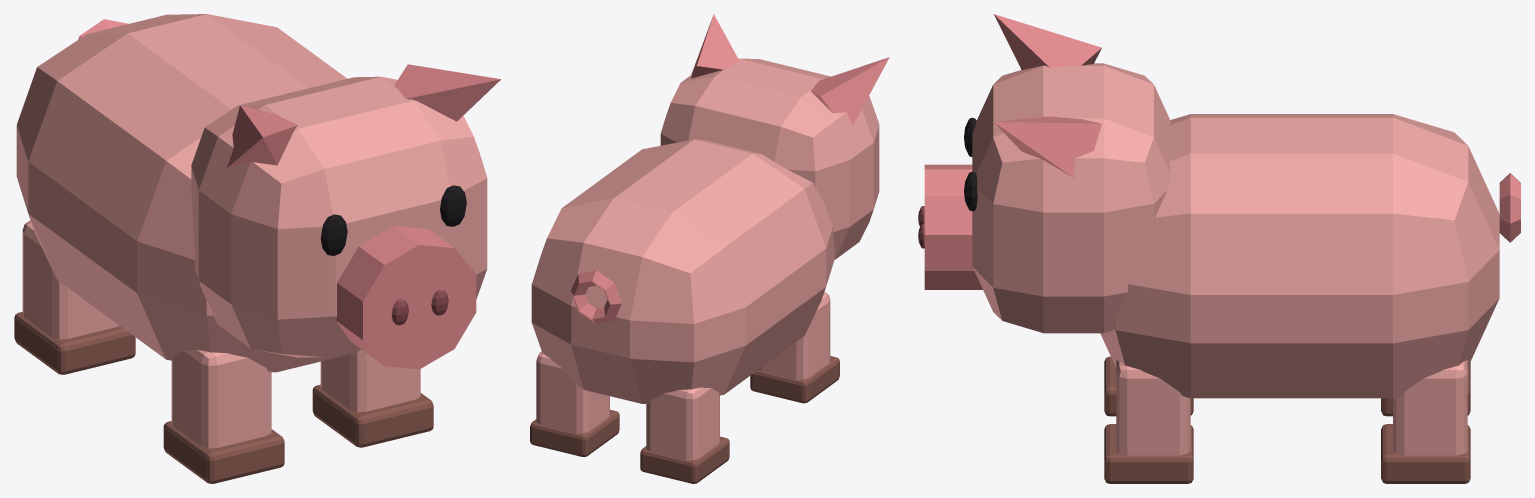
File: pig_pink.glb
3 views of the same model, side by side, from view 1: azimuth 30°, elevation 25°; view 2: azimuth 150°, elevation 25°; view 3: azimuth 270°, elevation 25° (orthographic). The views are drawn at different scales.
Visible parts, largest first — view 1: head_mesh, body_mesh, leg_fr_mesh, leg_br_mesh, leg_fl_mesh, ear_l_mesh, ear_r_mesh; view 2: body_mesh, head_mesh, leg_br_mesh, leg_bl_mesh, leg_fr_mesh, ear_r_mesh, tail_mesh, ear_l_mesh; view 3: body_mesh, head_mesh, leg_bl_mesh, leg_fl_mesh, ear_l_mesh, ear_r_mesh, tail_mesh, leg_fr_mesh.
Boxes of the visible parts, box(x1,y1,x2,y2) form: head_mesh: box(191, 76, 487, 369); body_mesh: box(16, 14, 361, 372); leg_fr_mesh: box(163, 349, 284, 483); leg_br_mesh: box(14, 220, 135, 374); leg_fl_mesh: box(312, 349, 433, 447); ear_l_mesh: box(394, 64, 500, 121); ear_r_mesh: box(227, 105, 297, 167); body_mesh: box(531, 139, 834, 403); head_mesh: box(660, 58, 879, 259); leg_br_mesh: box(640, 387, 729, 483); leg_bl_mesh: box(530, 351, 619, 456); leg_fr_mesh: box(750, 292, 839, 403); ear_r_mesh: box(811, 57, 889, 125); tail_mesh: box(571, 270, 621, 323); ear_l_mesh: box(691, 14, 739, 78); body_mesh: box(1100, 114, 1499, 398); head_mesh: box(918, 63, 1170, 333); leg_bl_mesh: box(1381, 360, 1470, 483); leg_fl_mesh: box(1104, 360, 1193, 483); ear_l_mesh: box(994, 116, 1101, 177); ear_r_mesh: box(994, 14, 1101, 70); tail_mesh: box(1499, 173, 1520, 242); leg_fr_mesh: box(1104, 356, 1193, 416).
Bounding box in the file's own units: 0.56 × 0.76 × 1.13.
